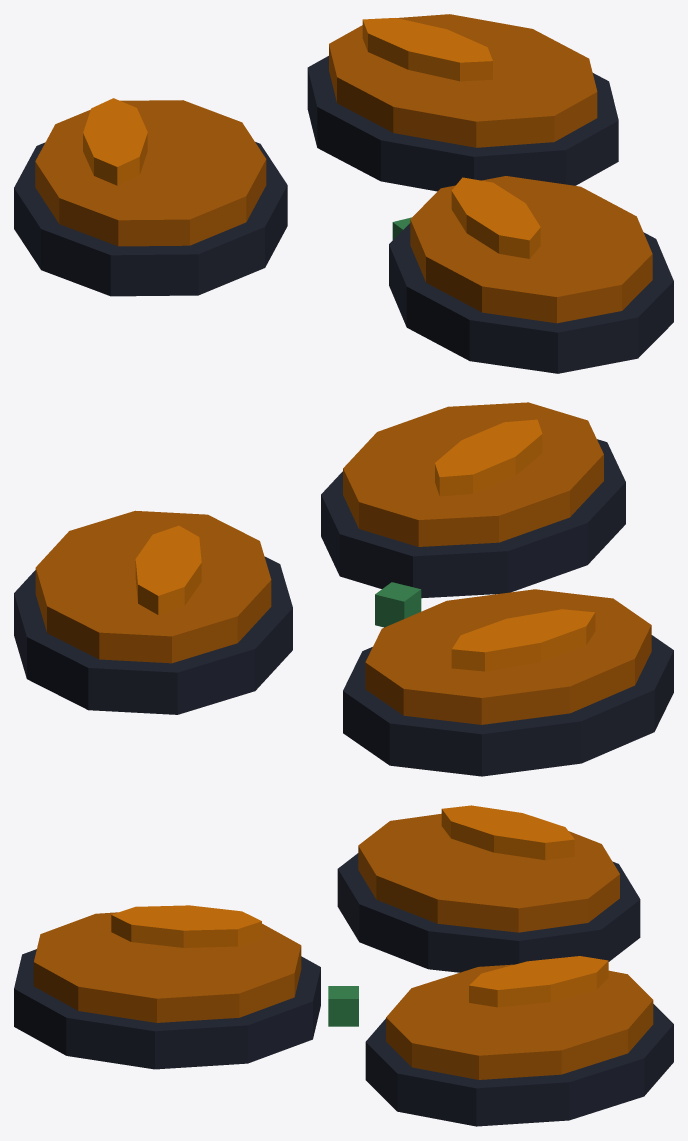
Rendered from carrot_seeds.fbx.
The picture shows the model from 3 angles, top to bottom: view 1: azimuth 30°, elevation 25°; view 2: azimuth 150°, elevation 25°; view 3: azimuth 270°, elevation 25°; orthographic projection. The views are drawn at different scales.
Parts seen in each view (by area): view 1: carrot_seeds__Icon; view 2: carrot_seeds__Icon, carrot_seeds__Origin; view 3: carrot_seeds__Icon, carrot_seeds__Origin.
Part boxes in pixels (<box>): carrot_seeds__Icon: <box>14,14,673,373</box>; carrot_seeds__Icon: <box>14,402,673,776</box>; carrot_seeds__Origin: <box>375,582,421,627</box>; carrot_seeds__Icon: <box>14,805,673,1126</box>; carrot_seeds__Origin: <box>328,986,358,1026</box>.
Size of the model in its own units: 0.8075 by 0.145 by 0.8619.
Materials: 1 (1 with a texture image).
